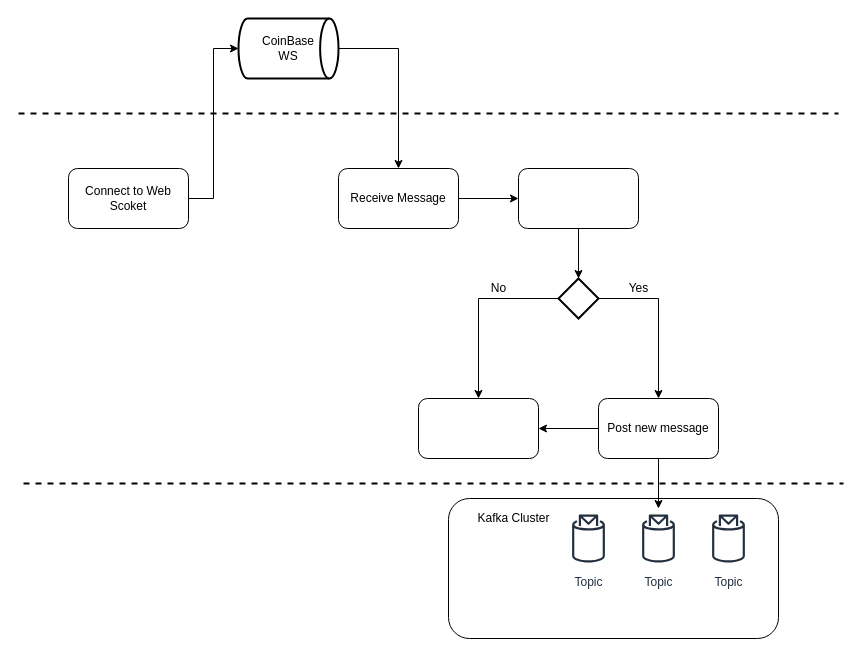
Image size: 861x656. Some labels were removed from this diagram. Here are the shapes that lost their labels. From the top down, the centre of each, then its label:
At point (578, 198): "Compute Product VWAP".
At point (578, 298): "MQ".
At point (478, 428): "Print result".
